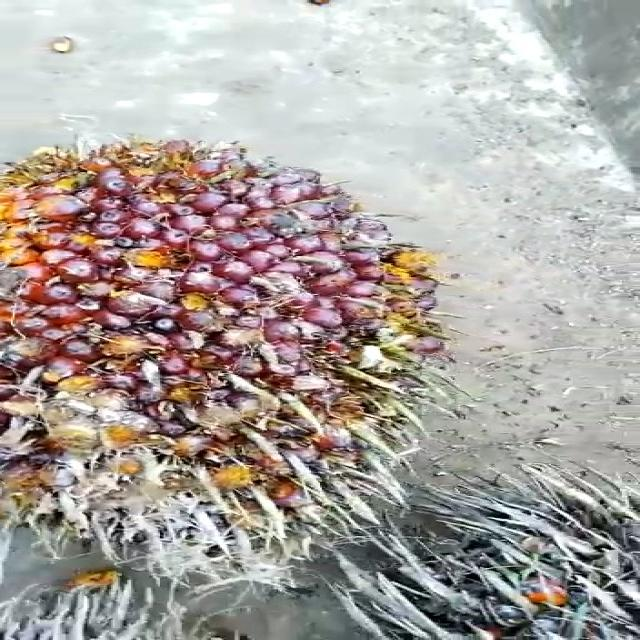palm oil: (0, 141, 440, 552)
